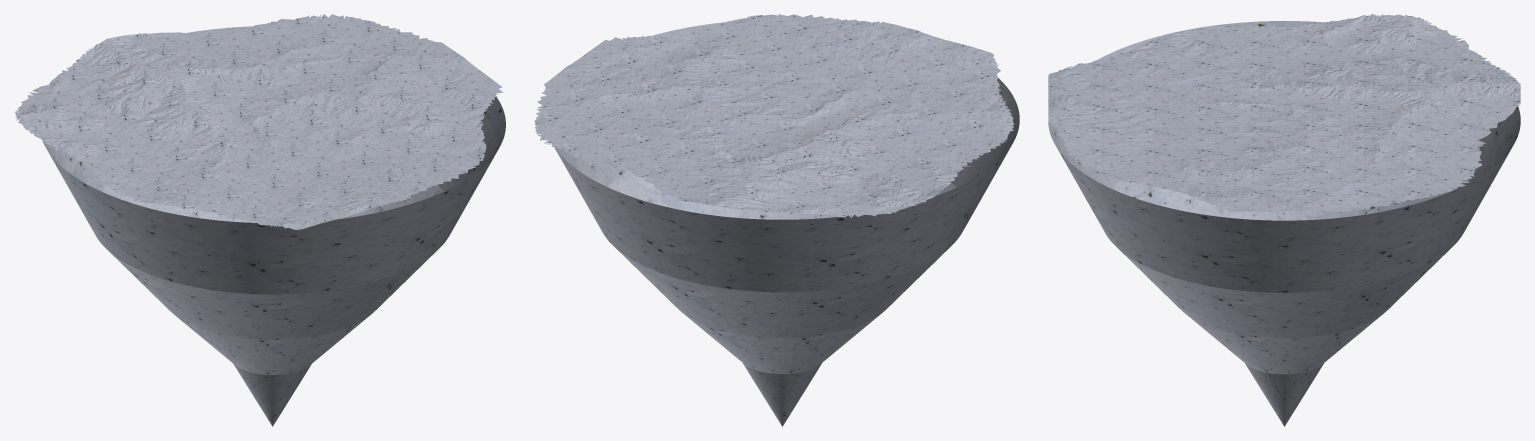
The model's file is terrain004.glb.
3 views of the same model, side by side, from view 1: azimuth 30°, elevation 25°; view 2: azimuth 150°, elevation 25°; view 3: azimuth 270°, elevation 25° (orthographic).
Parts seen in each view (by area): view 1: Terrain004_1K, skirt; view 2: Terrain004_1K, skirt; view 3: Terrain004_1K, skirt.
Boxes of the visible parts, x1,y1,x2,y2 form: Terrain004_1K: [15, 14, 503, 229]; skirt: [42, 26, 505, 426]; Terrain004_1K: [534, 14, 1014, 217]; skirt: [552, 22, 1019, 426]; Terrain004_1K: [1048, 14, 1520, 211]; skirt: [1048, 21, 1520, 426].
Bounding box in the file's own units: 200 × 149 × 200.
Materials: 1 (1 with a texture image).
